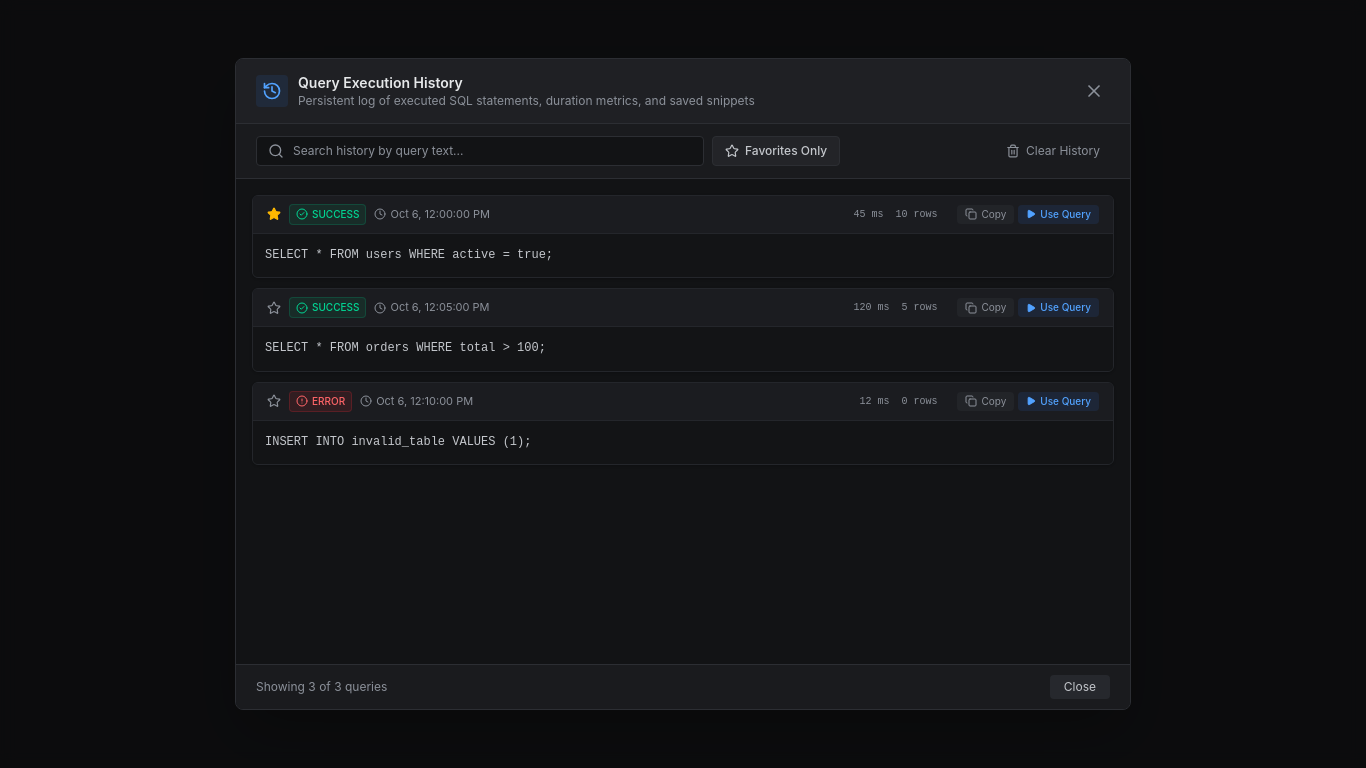
QueryHistoryModal › filters history by favorites toggle button
Expected: the text "SELECT * FROM users WHERE active = true;" is shown, [253,234,1113,277]
Click the button "Favorites Only".
click(776, 151)  # box [712,136,840,166]
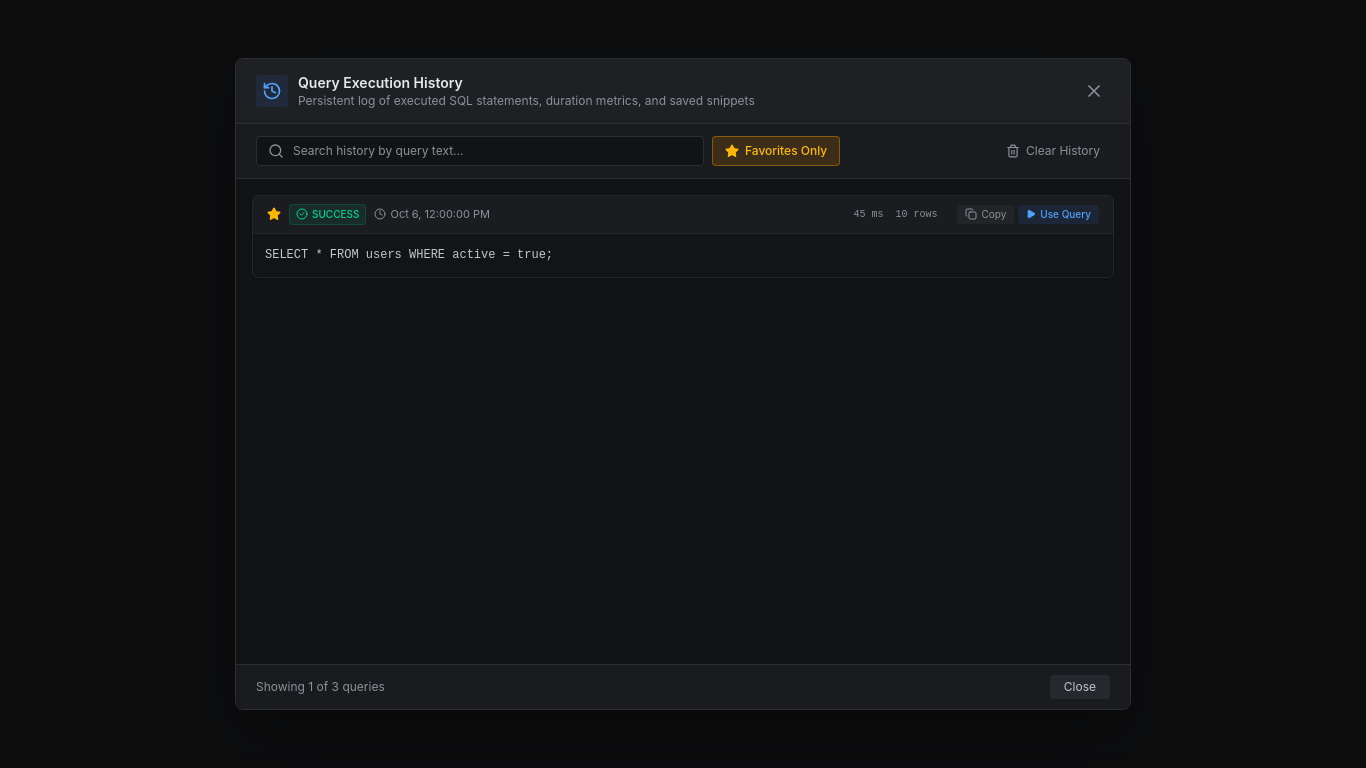
Expected: the text "SELECT * FROM users WHERE active = true;" is shown, [253,234,1113,277]
Expected: the text "SELECT * FROM orders" is gone
